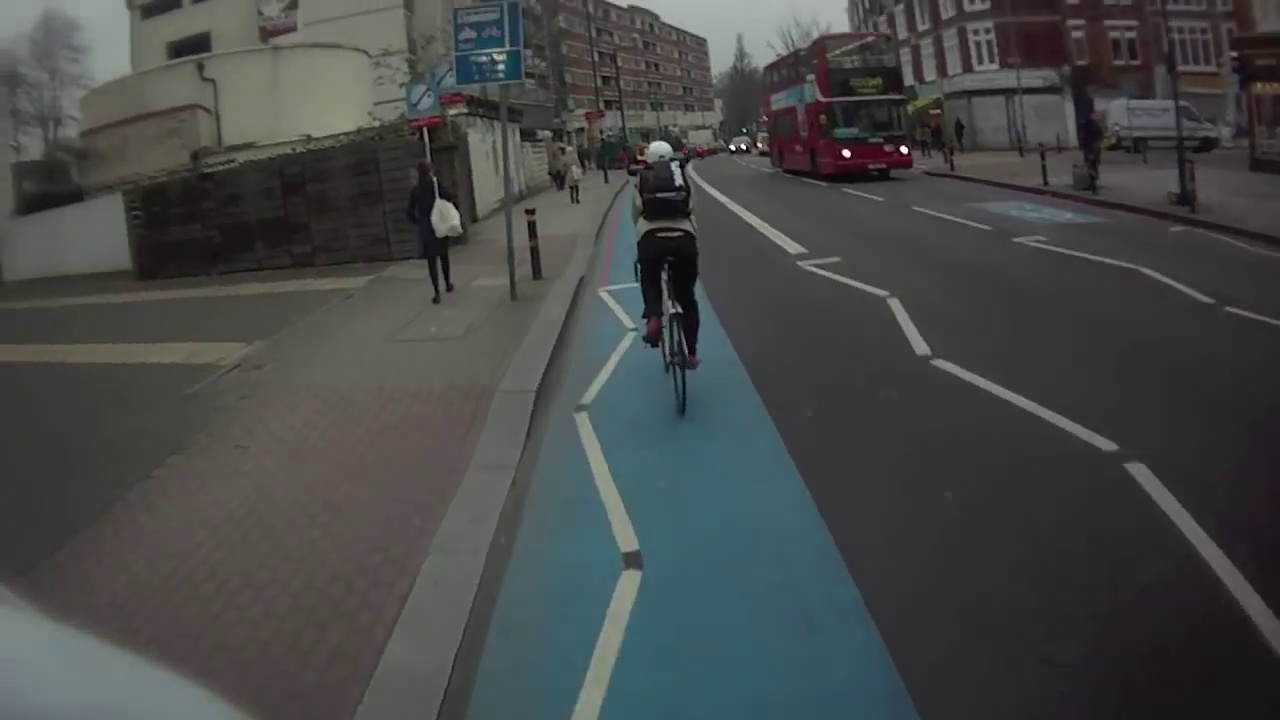cyclist_back: (634, 138, 715, 425)
